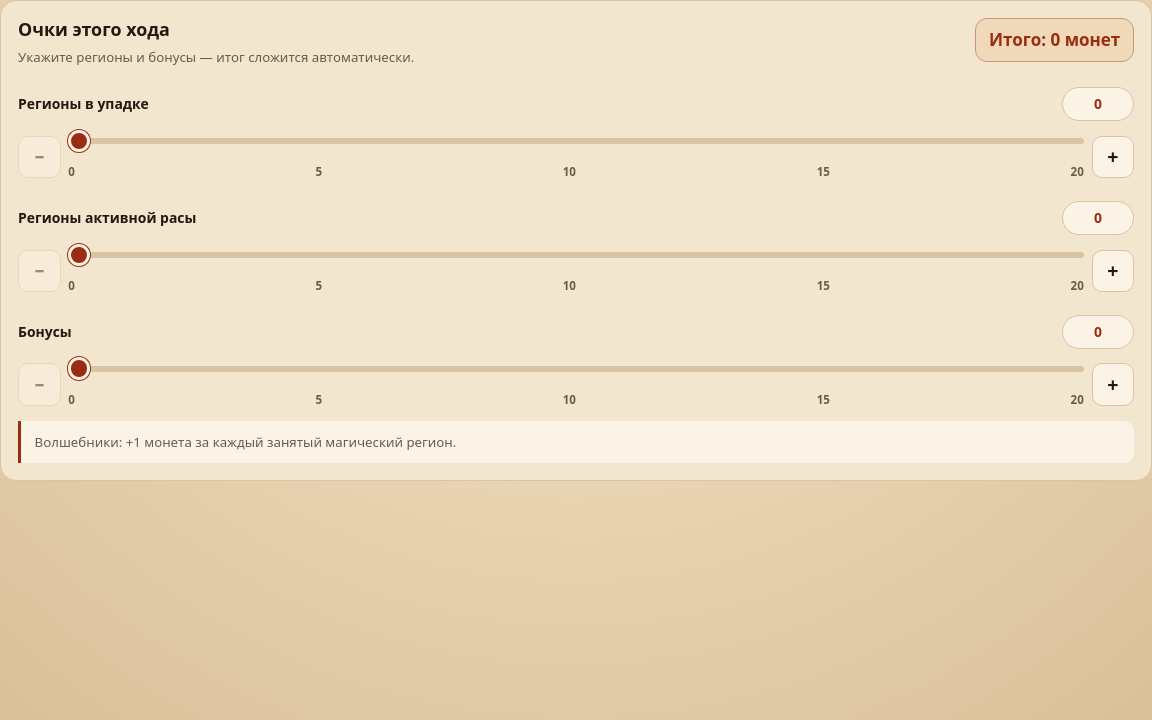
Test case: TurnScoreInput › derives the total while editing all score parts
Replace the text in the field named "Точное число активных регионов" with "5". click: (1098, 218)
box: top-left (1062, 201), bottom-right (1134, 235)
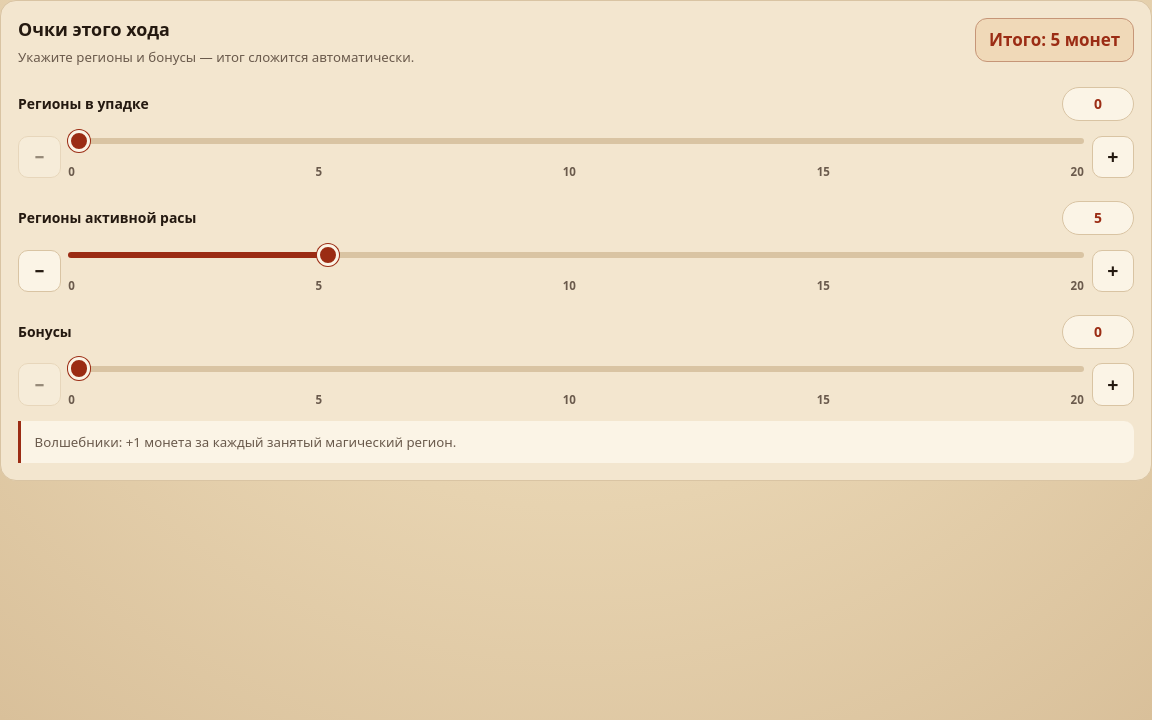
Replace the text in the field named "Точное число регионов в упадке" with "2". click: (1098, 104)
box: top-left (1062, 87), bottom-right (1134, 121)
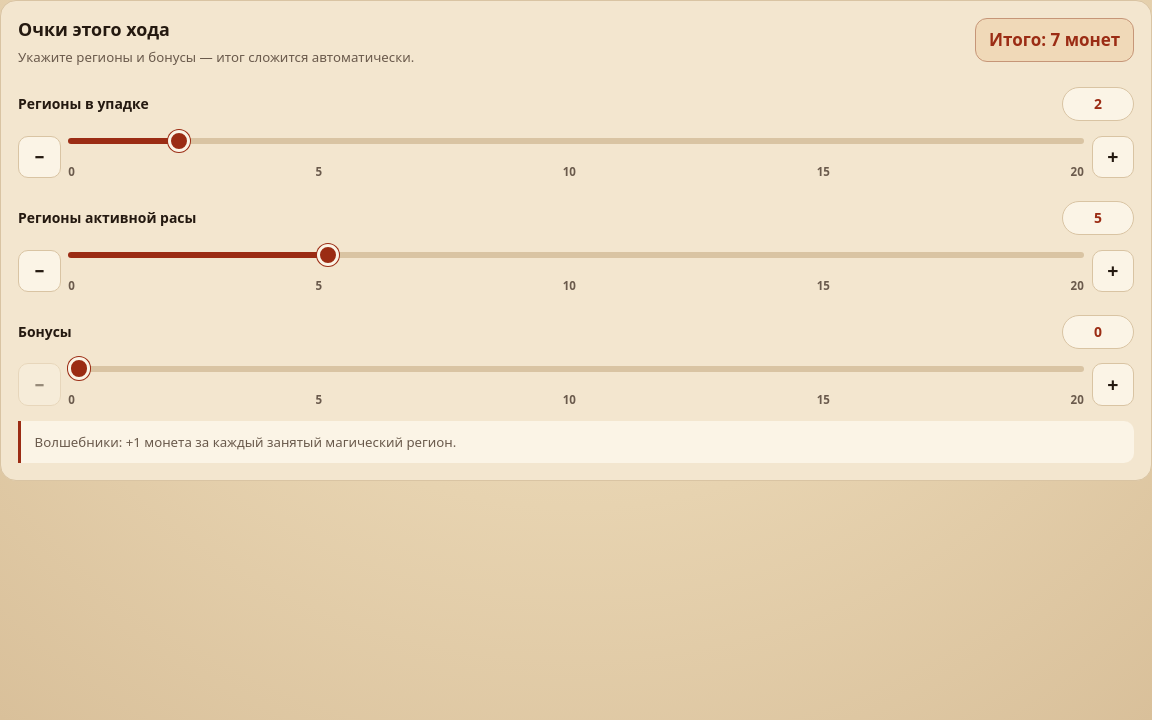
Click the button named "Увеличить: Бонусы". click: (1113, 385)
box: top-left (1092, 364), bottom-right (1134, 406)
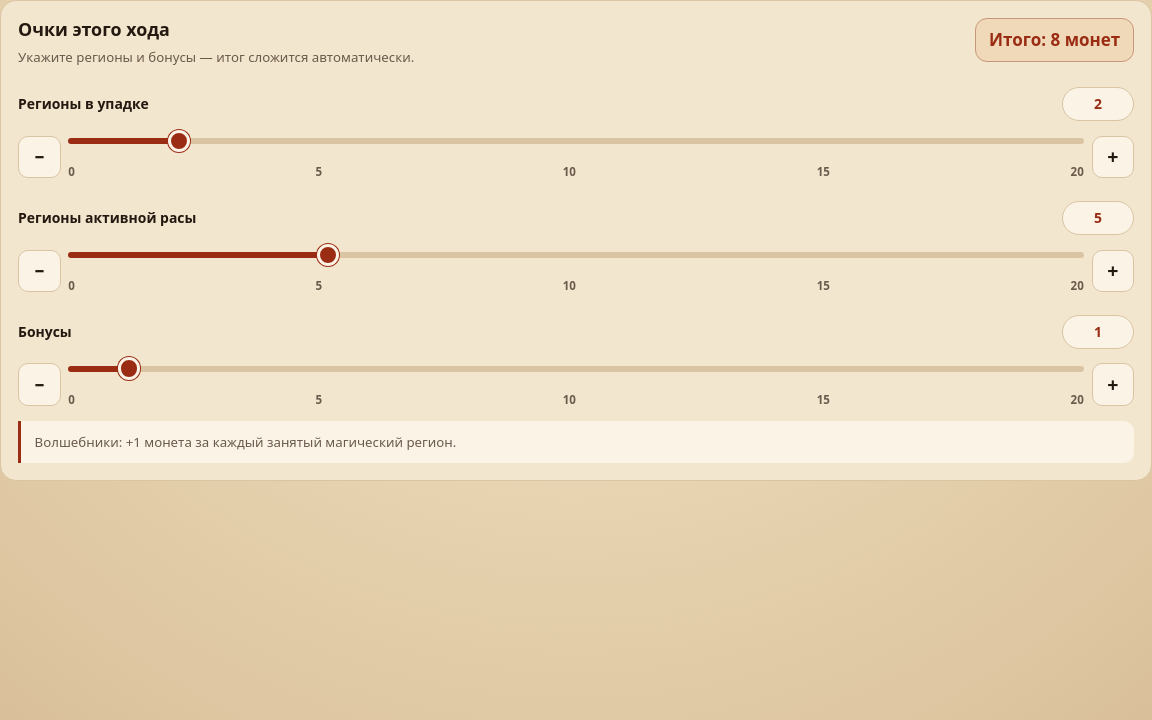
Expected: the text "Итого: 8 монет" is shown, top-left (975, 18), bottom-right (1134, 62)
